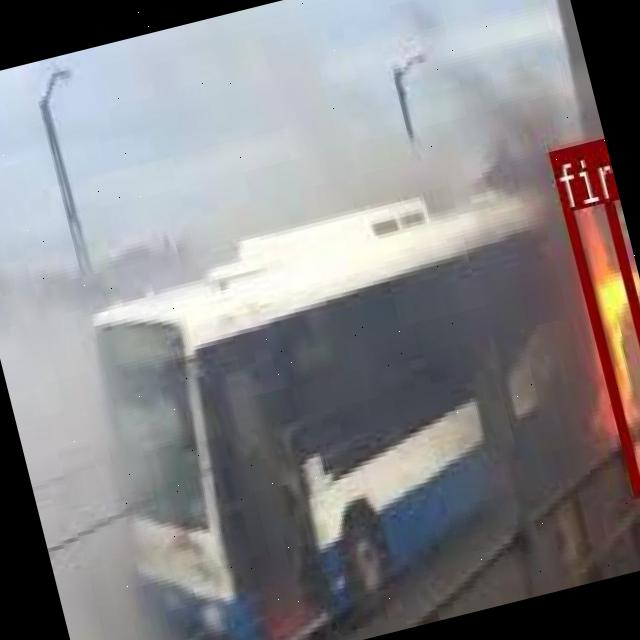fire: (546, 138, 640, 493)
